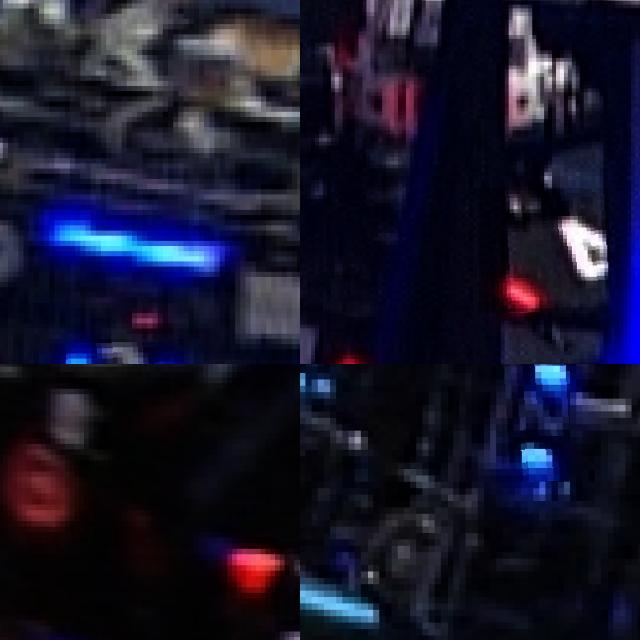B2: (496, 364, 570, 482), (44, 339, 183, 364)
R4: (479, 188, 609, 313)
